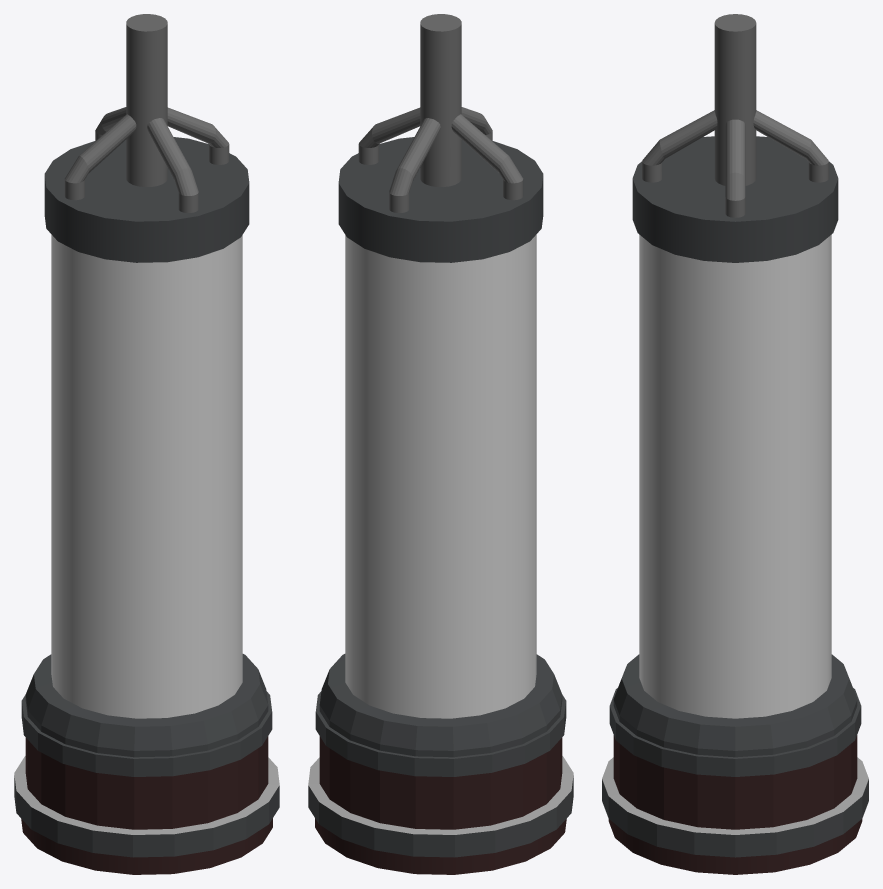
The model's file is Tube_Empty.fbx.
The picture shows the model from 3 angles, left to right: view 1: azimuth 30°, elevation 25°; view 2: azimuth 150°, elevation 25°; view 3: azimuth 270°, elevation 25°; orthographic projection.
Parts seen in each view (by area): view 1: Glass_Tube, Base, Tube_Top, Pipe_Center, Pipe_02, Pipe_01, Pipe_04; view 2: Glass_Tube, Base, Tube_Top, Pipe_Center, Pipe_02, Pipe_03, Pipe_04; view 3: Glass_Tube, Base, Tube_Top, Pipe_Center, Pipe_04, Pipe_01, Pipe_03.
Boxes of the visible parts, x1,y1,x2,y2 form: Glass_Tube: (51,234,242,718); Base: (14,654,279,874); Tube_Top: (44,137,249,262); Pipe_Center: (126,14,167,186); Pipe_02: (64,114,136,200); Pipe_01: (147,118,198,212); Pipe_04: (167,107,229,164); Glass_Tube: (345,234,536,718); Base: (308,654,573,874); Tube_Top: (338,137,543,262); Pipe_Center: (420,14,461,186); Pipe_02: (451,114,523,200); Pipe_03: (389,118,440,212); Pipe_04: (358,107,420,164); Glass_Tube: (639,235,831,718); Base: (602,654,868,874); Tube_Top: (632,136,838,262); Pipe_Center: (714,14,756,185); Pipe_04: (725,119,745,217); Pipe_01: (642,110,717,182); Pipe_03: (753,110,828,182).
Size of the model in its own units: 101 by 332 by 101.
